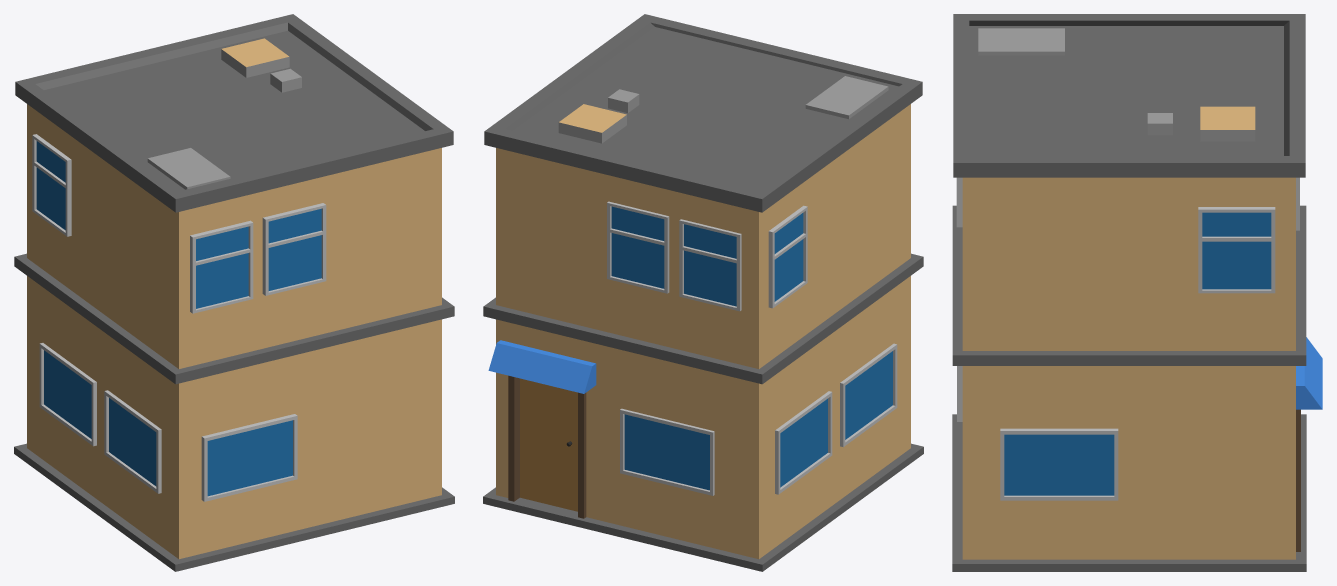
The model's file is Base_Building.fbx.
3 renders of one model, left to right at view 1: azimuth 30°, elevation 25°; view 2: azimuth 150°, elevation 25°; view 3: azimuth 270°, elevation 25°, orthographic. The views are drawn at different scales.
Visible parts, largest first — view 1: BaseBuilding; view 2: BaseBuilding; view 3: BaseBuilding.
Part boxes in pixels (box(x1,y1,x2,y2)): BaseBuilding: box(14, 14, 454, 571); BaseBuilding: box(483, 14, 923, 571); BaseBuilding: box(952, 14, 1322, 571).
Bounding box in the file's own units: 921 × 1188 × 963.
